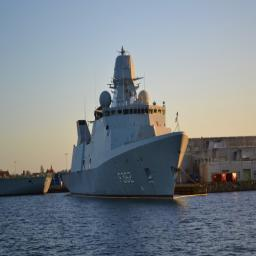Fragata: (60, 45, 192, 202)
